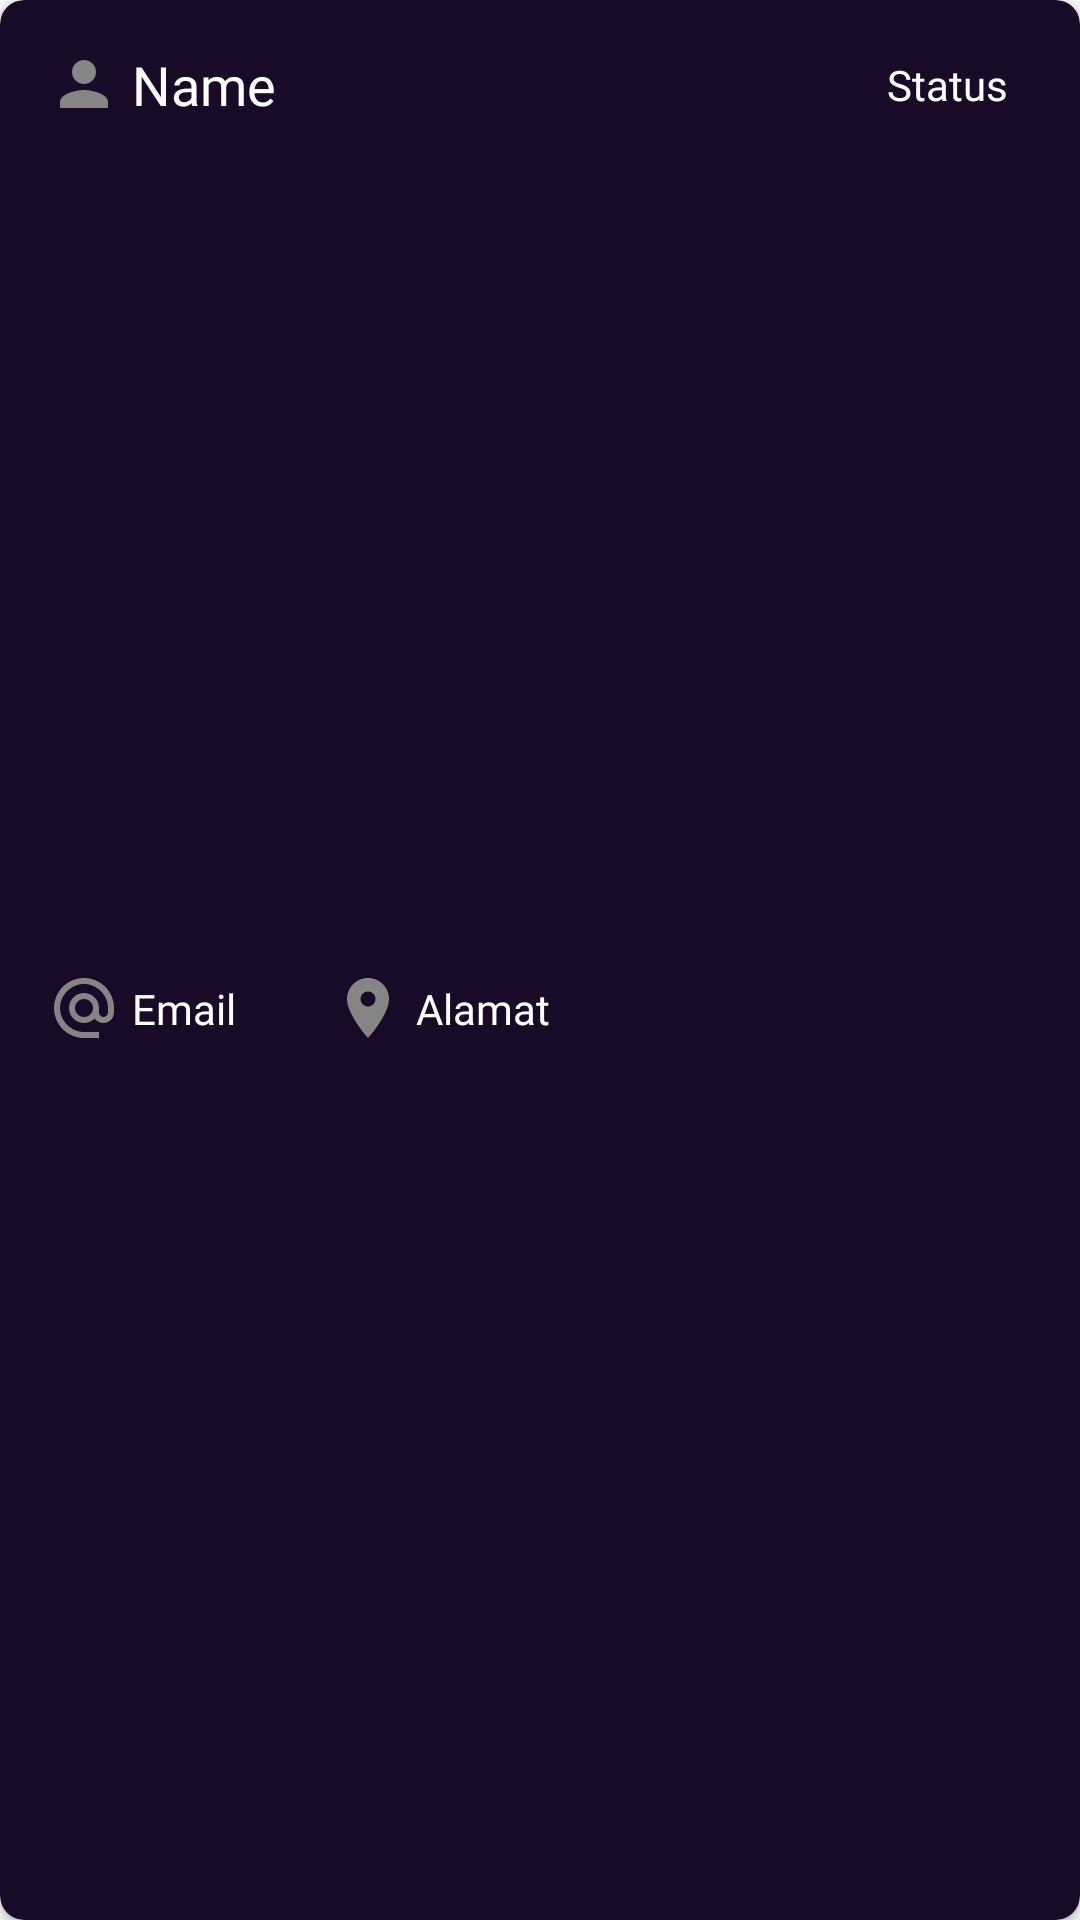

Named icons in this screenshot (1080px×1920px) and their centers, (x,y):
address: (368,1008)
person: (84,84)
